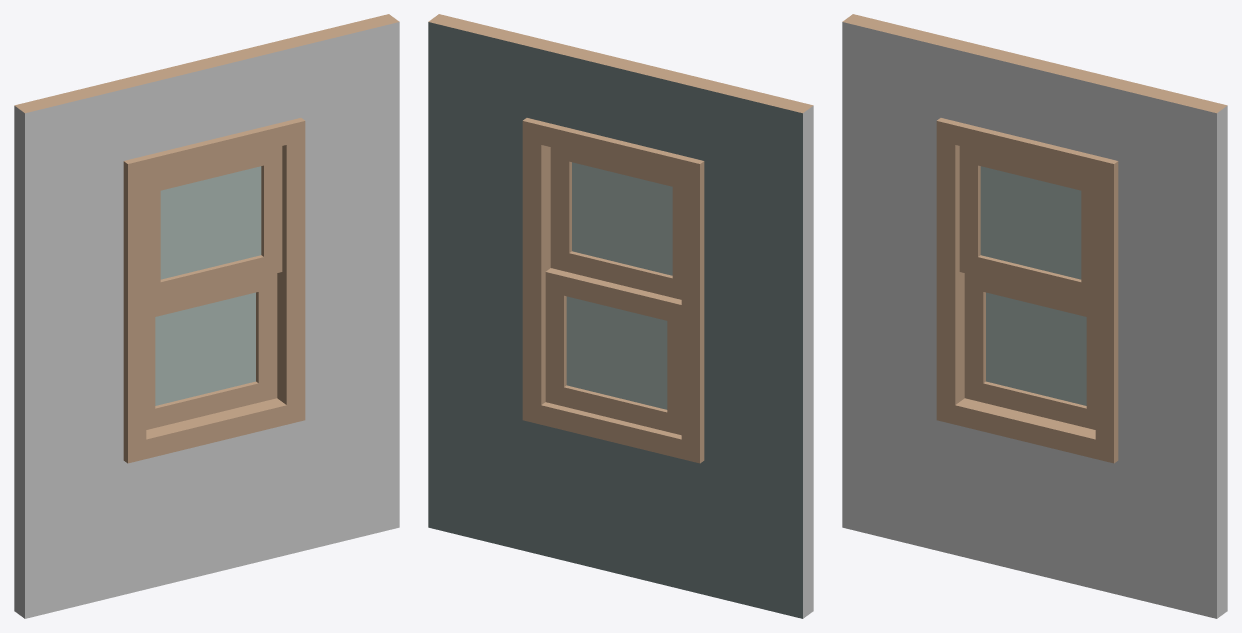
File: wallWindowSlide.glb
3 renders of one model, left to right at view 1: azimuth 30°, elevation 25°; view 2: azimuth 150°, elevation 25°; view 3: azimuth 330°, elevation 25°, orthographic.
Visible parts, largest first — view 1: wallWindowSlide; view 2: wallWindowSlide; view 3: wallWindowSlide.
Part boxes in pixels (x1,y1,x2,y2): wallWindowSlide: (14, 14, 399, 618); wallWindowSlide: (428, 14, 813, 618); wallWindowSlide: (842, 14, 1227, 618).
Size of the model in its own units: 1 by 1.29 by 0.0891.
